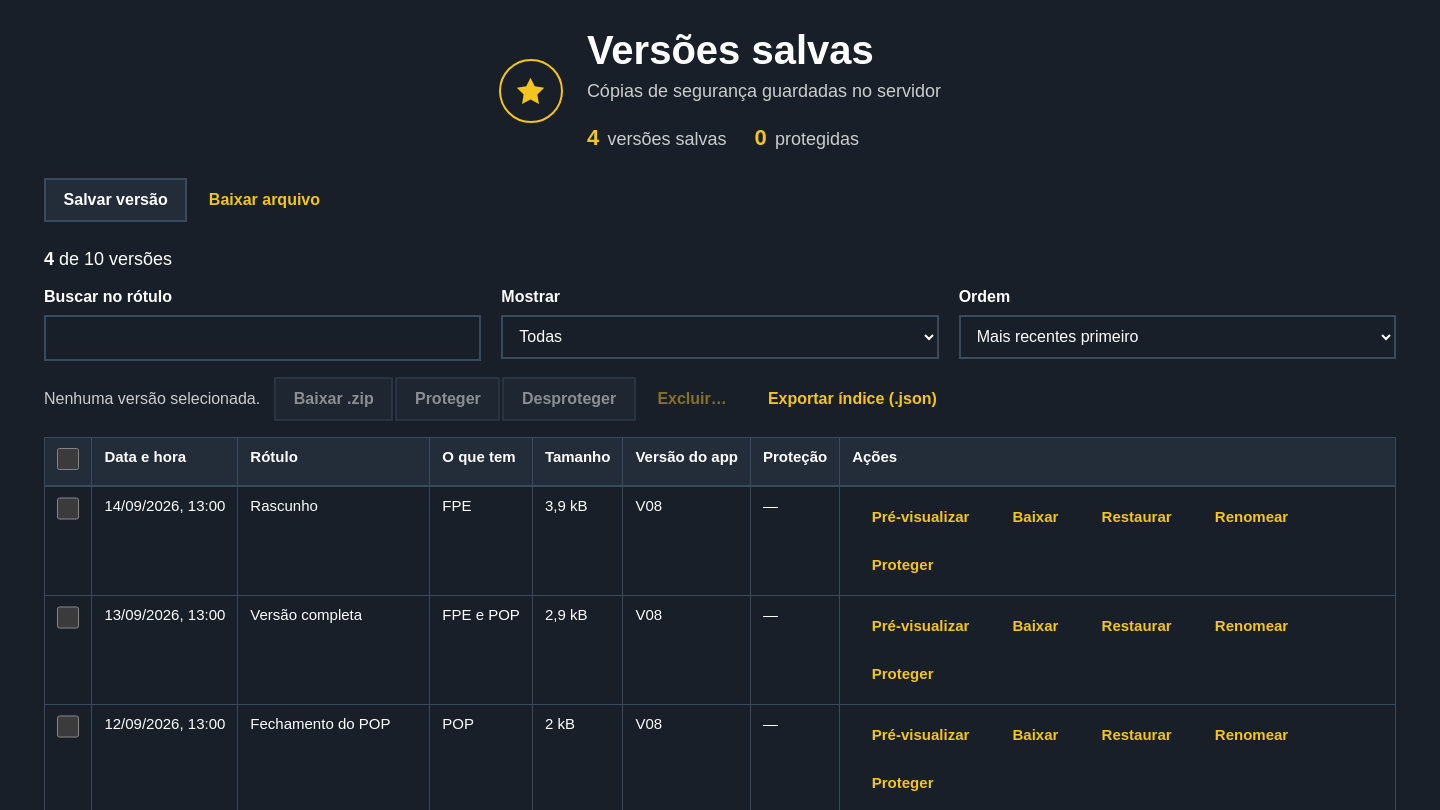
Test case: filtro, busca e seleção › seleciona uma, várias e todas; “selecionar todas” fica indeterminado quando só parte está marcada
Expected: the text "Nenhuma versão selecionada." is shown, [44,387,260,411]
Click the checkbox named "Selecionar versão: Rascunho, 14/09/2026, 13:00" at (68, 508), box [57,497,79,520]
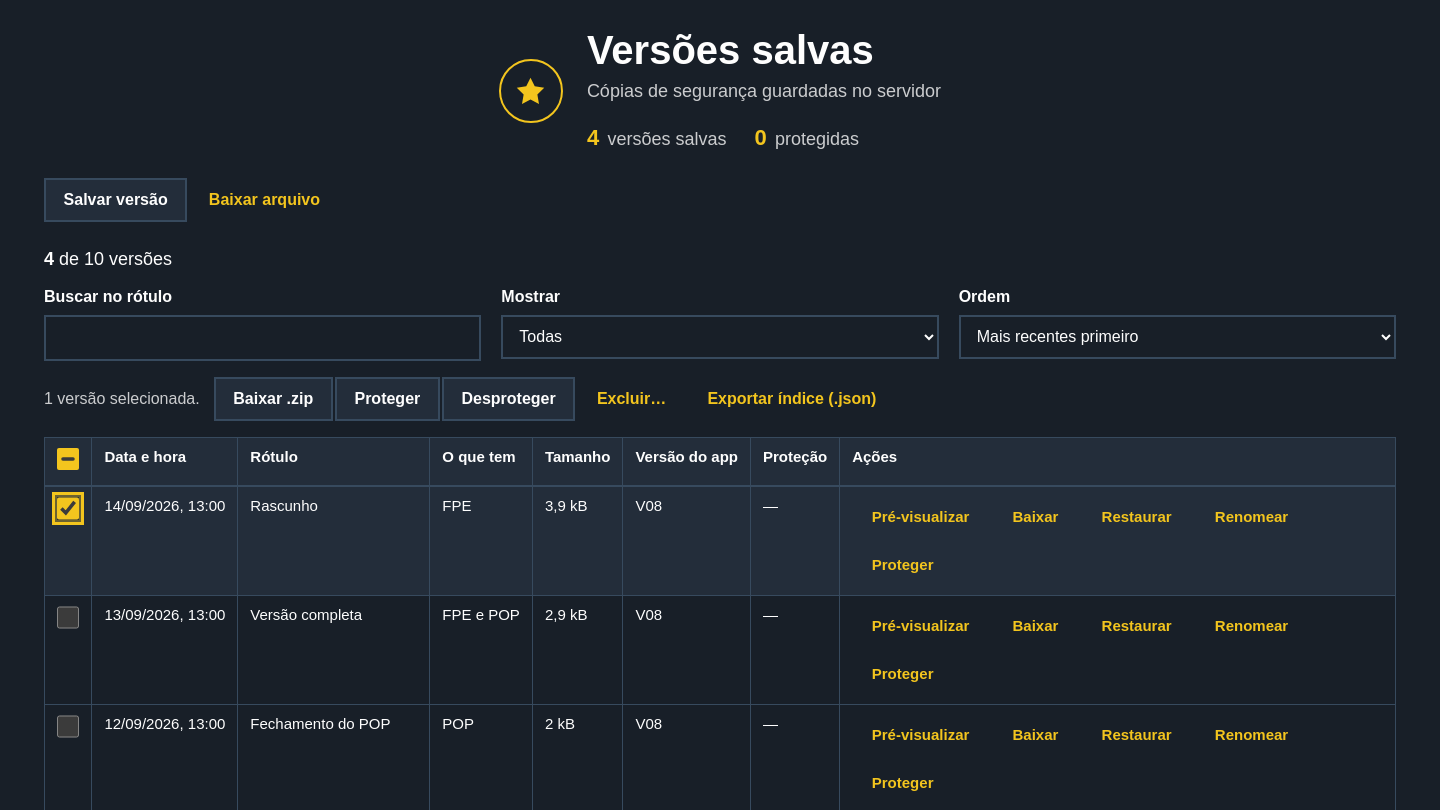
Now the text "1 versão selecionada." is shown, box [44,387,200,411]
Click the checkbox named "Selecionar todas as versões mostradas" at (68, 459), box [57,448,79,470]
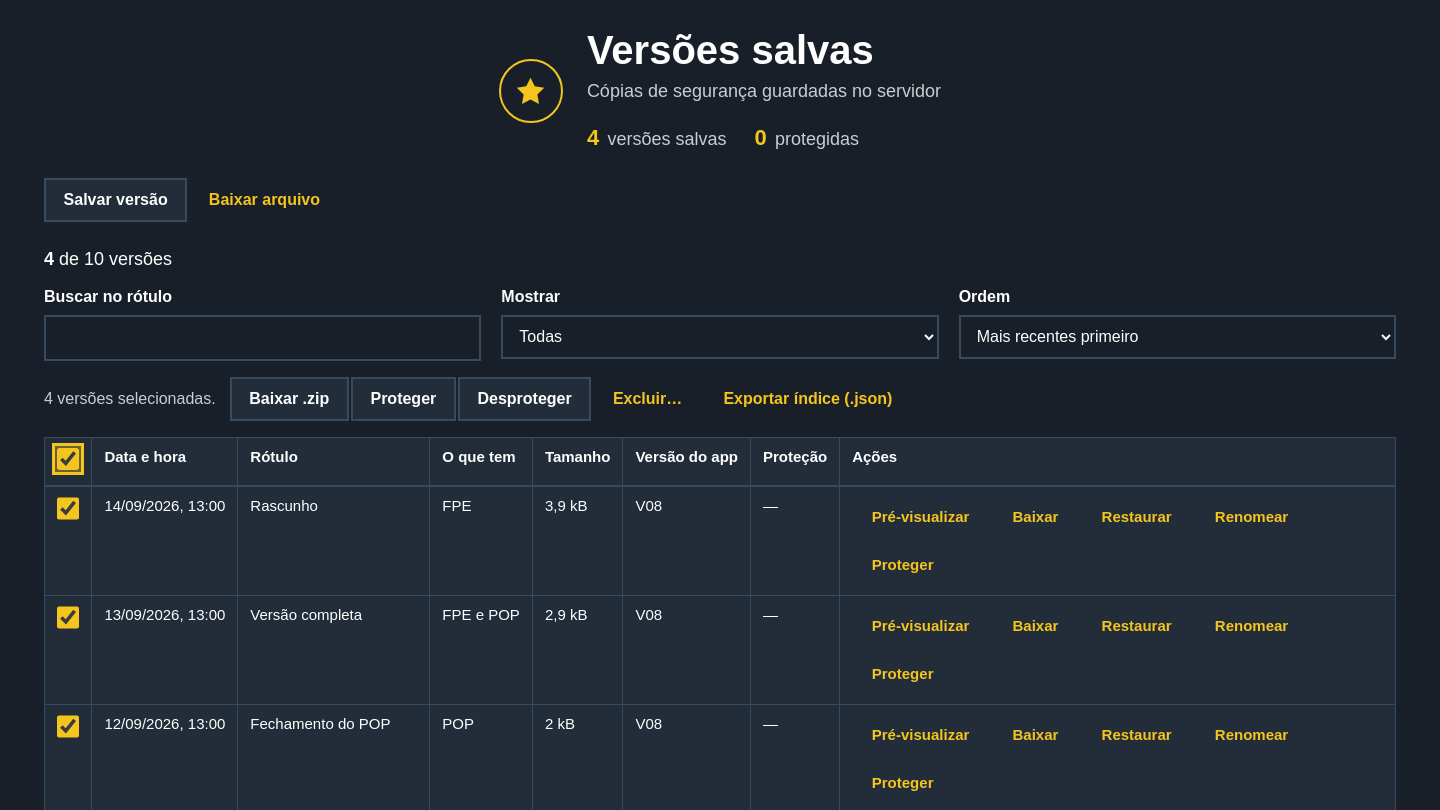
Now the checkbox named "Selecionar todas as versões mostradas" is checked
Now the text "4 versões selecionadas." is shown, box [44,387,216,411]
Click the checkbox named "Selecionar todas as versões mostradas" at (68, 459), box [57,448,79,470]
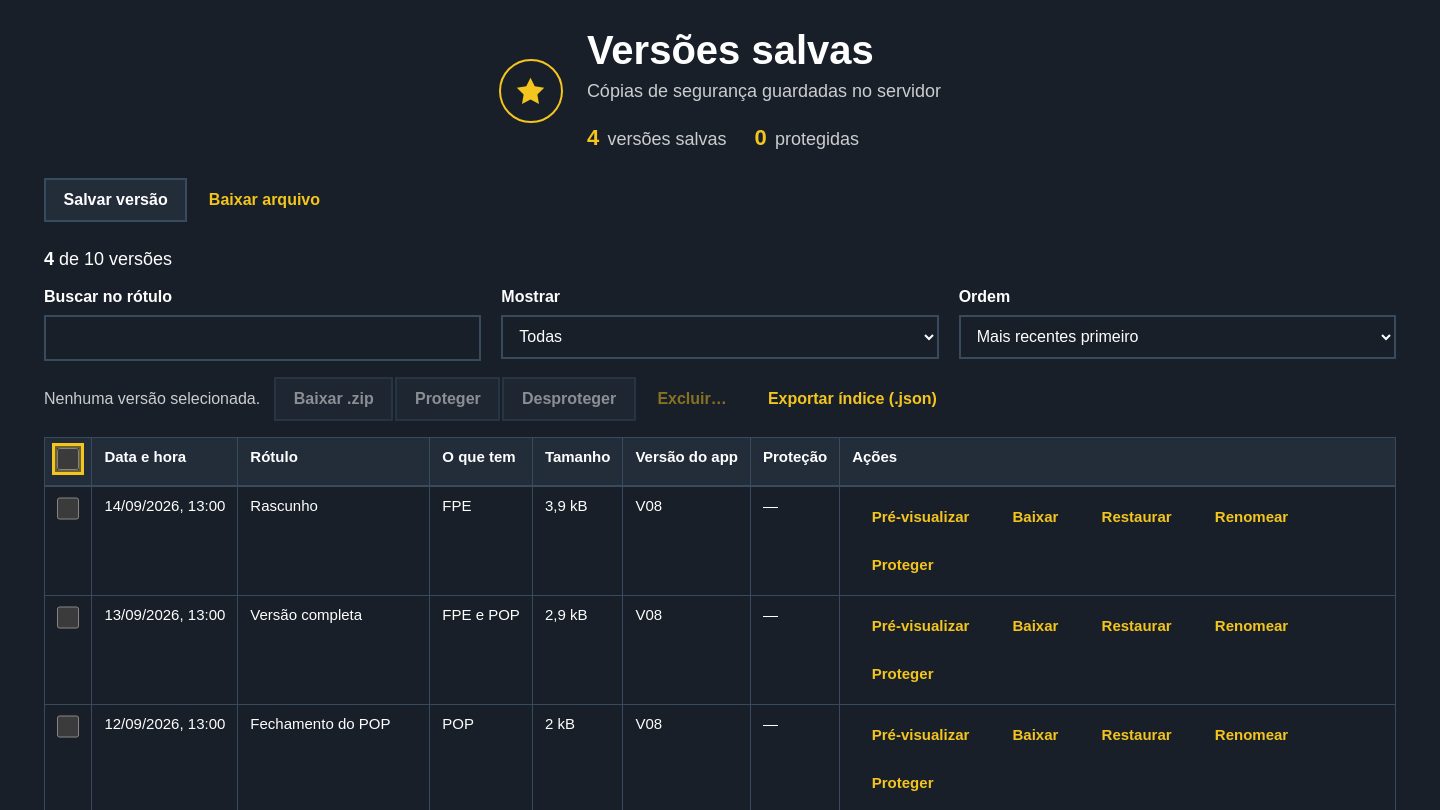
Now the text "Nenhuma versão selecionada." is shown, box [44,387,260,411]
